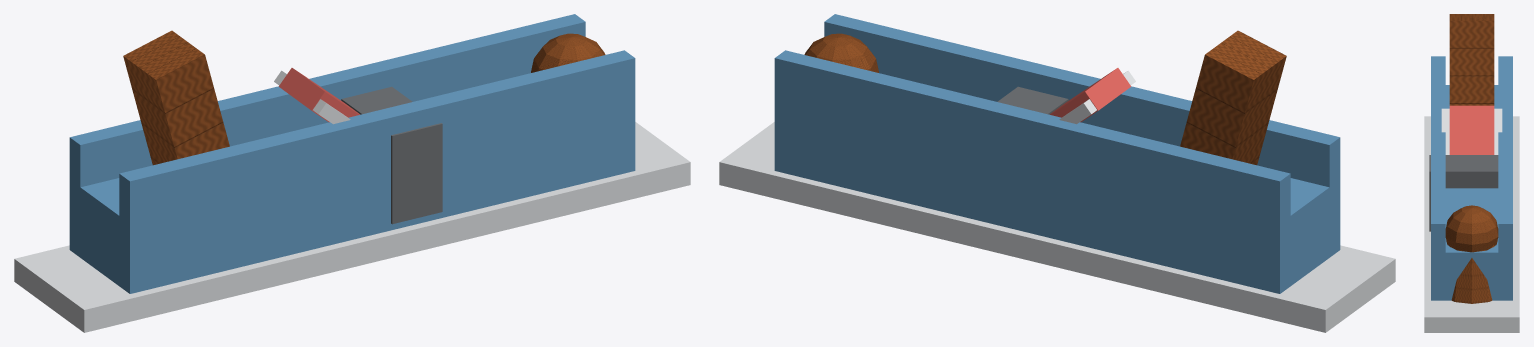
The model's file is woodworking-workshop-and-joinery-woodworking-workshop--0778378a__34258.glb.
3 views of the same model, side by side, from view 1: azimuth 30°, elevation 25°; view 2: azimuth 150°, elevation 25°; view 3: azimuth 270°, elevation 25° (orthographic). The views are drawn at different scales.
Parts seen in each view (by area): view 1: woodworking-workshop-and-joinery-bench-plane; view 2: woodworking-workshop-and-joinery-bench-plane; view 3: woodworking-workshop-and-joinery-bench-plane.
Boxes of the visible parts, x1,y1,x2,y2 form: woodworking-workshop-and-joinery-bench-plane: [14, 14, 690, 332]; woodworking-workshop-and-joinery-bench-plane: [719, 14, 1395, 332]; woodworking-workshop-and-joinery-bench-plane: [1424, 14, 1519, 332].
Bounding box in the file's own units: 0.36 × 0.131 × 0.072.
Materials: 5 (1 with a texture image).
